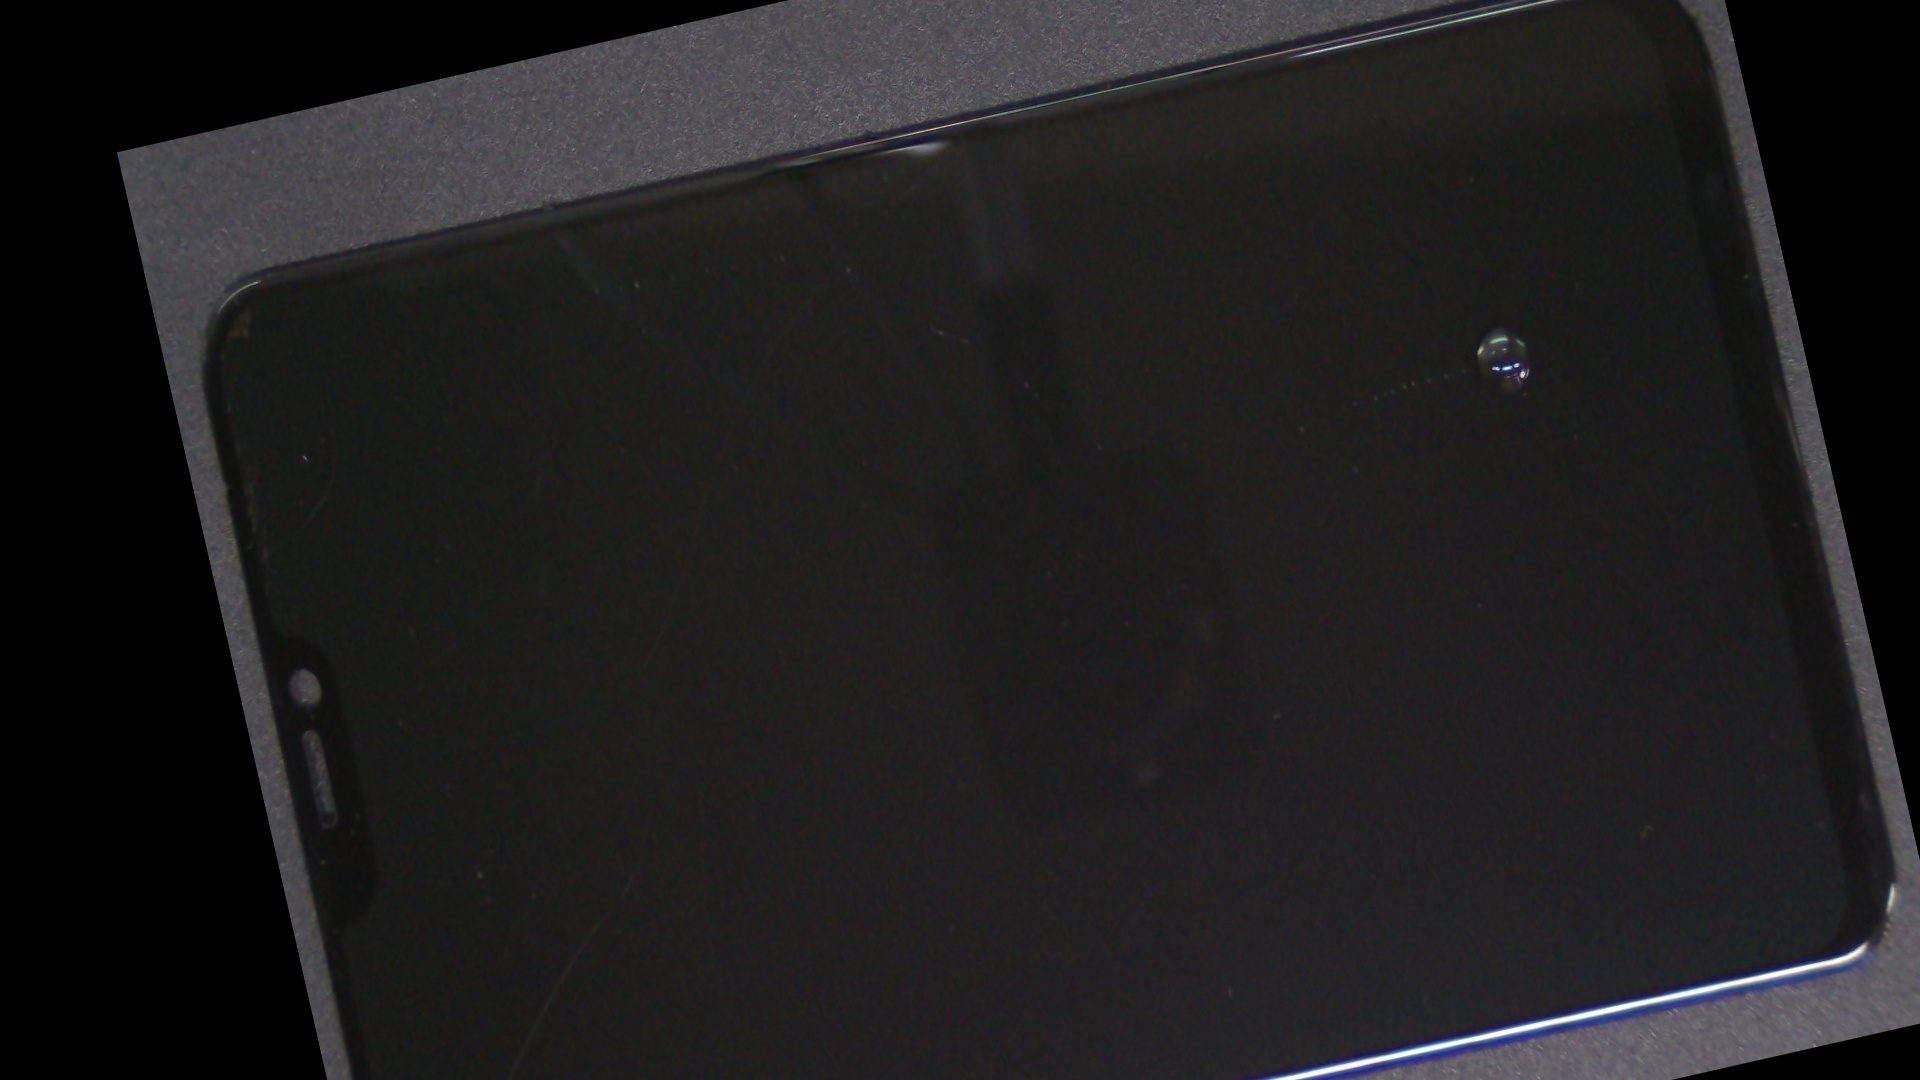oil: (806, 30, 1837, 705)
